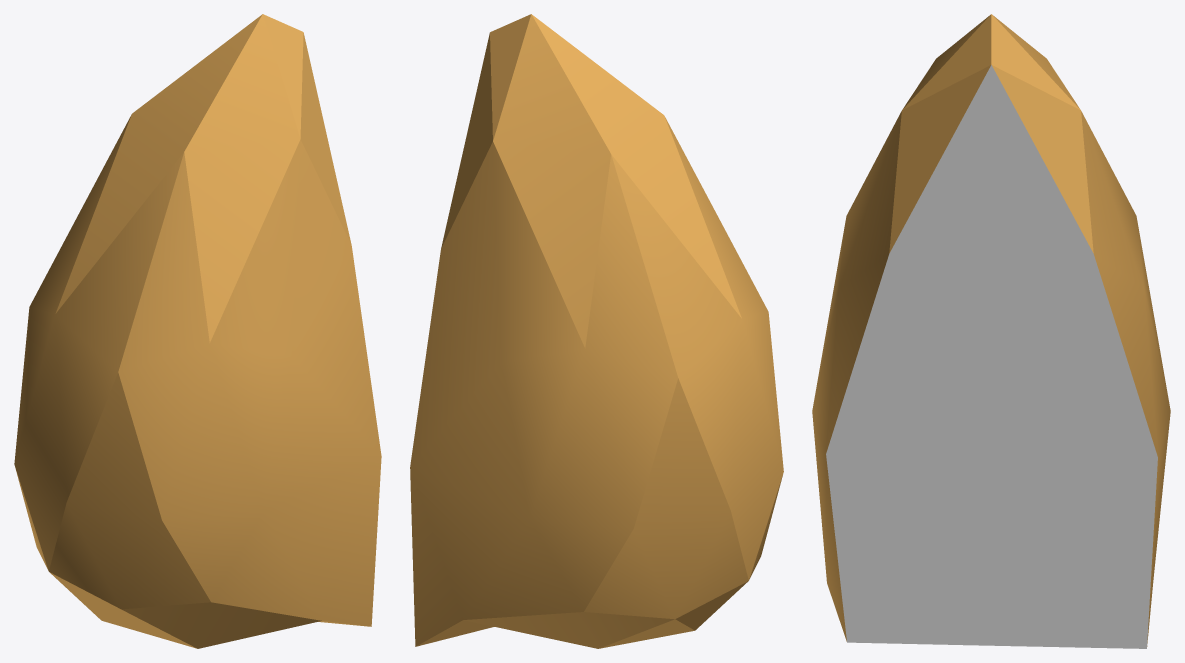
Rendered from runestone1.fbx.
3 renders of one model, left to right at view 1: azimuth 30°, elevation 25°; view 2: azimuth 150°, elevation 25°; view 3: azimuth 270°, elevation 25°, orthographic. The views are drawn at different scales.
Visible parts, largest first — view 1: runestone1; view 2: runestone1; view 3: runestone1.
Boxes of the visible parts, <box> form: runestone1: <box>14,14,381,648</box>; runestone1: <box>410,14,783,648</box>; runestone1: <box>812,14,1170,648</box>.
Bounding box in the file's own units: 0.9478 × 0.8515 × 1.81.
